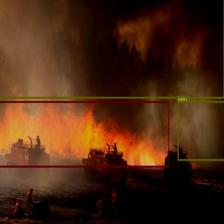fire: (0, 100, 169, 167)
smoke: (0, 0, 224, 98), (177, 100, 224, 160)
